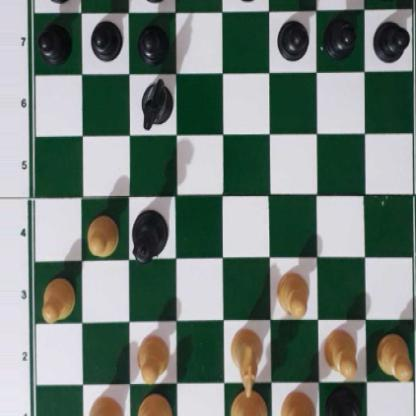black-bishop: (324, 384, 366, 416), (133, 0, 173, 4)
black-king: (227, 0, 267, 3)
black-knight: (139, 77, 173, 132)
black-pawn: (373, 17, 408, 63), (276, 15, 309, 60), (37, 20, 71, 61), (324, 14, 356, 56), (138, 19, 168, 63), (90, 18, 120, 61)
black-queen: (130, 209, 167, 262)
black-rook: (30, 0, 76, 3)
white-bishop: (280, 390, 317, 416), (136, 393, 173, 416)
white-king: (230, 387, 267, 416)
white-knight: (230, 326, 264, 399)
white-pawn: (322, 326, 359, 378), (376, 332, 413, 379), (135, 332, 170, 381), (83, 211, 119, 257), (39, 275, 75, 321), (275, 268, 309, 316)
white-rook: (83, 393, 124, 416)
